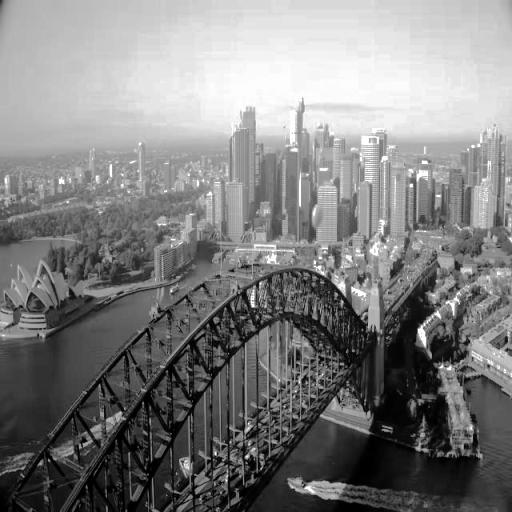balloon: (312, 206, 322, 230)
